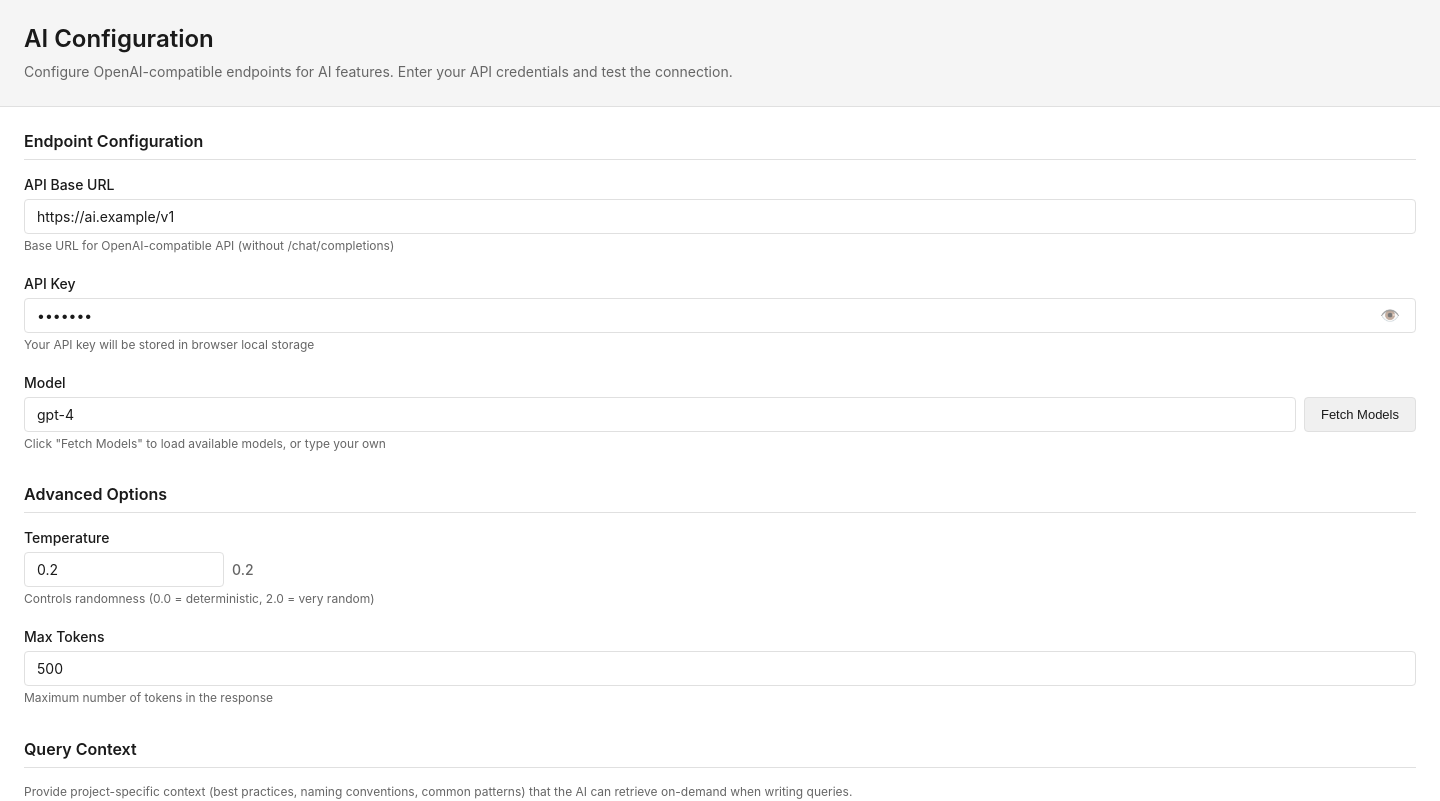
Scenario: AISettingsView › warns on empty model lists, fetch failures and thrown errors
Click the button with class "btn-fetch-models". click: (1360, 414)
box: [1304,397,1416,432]
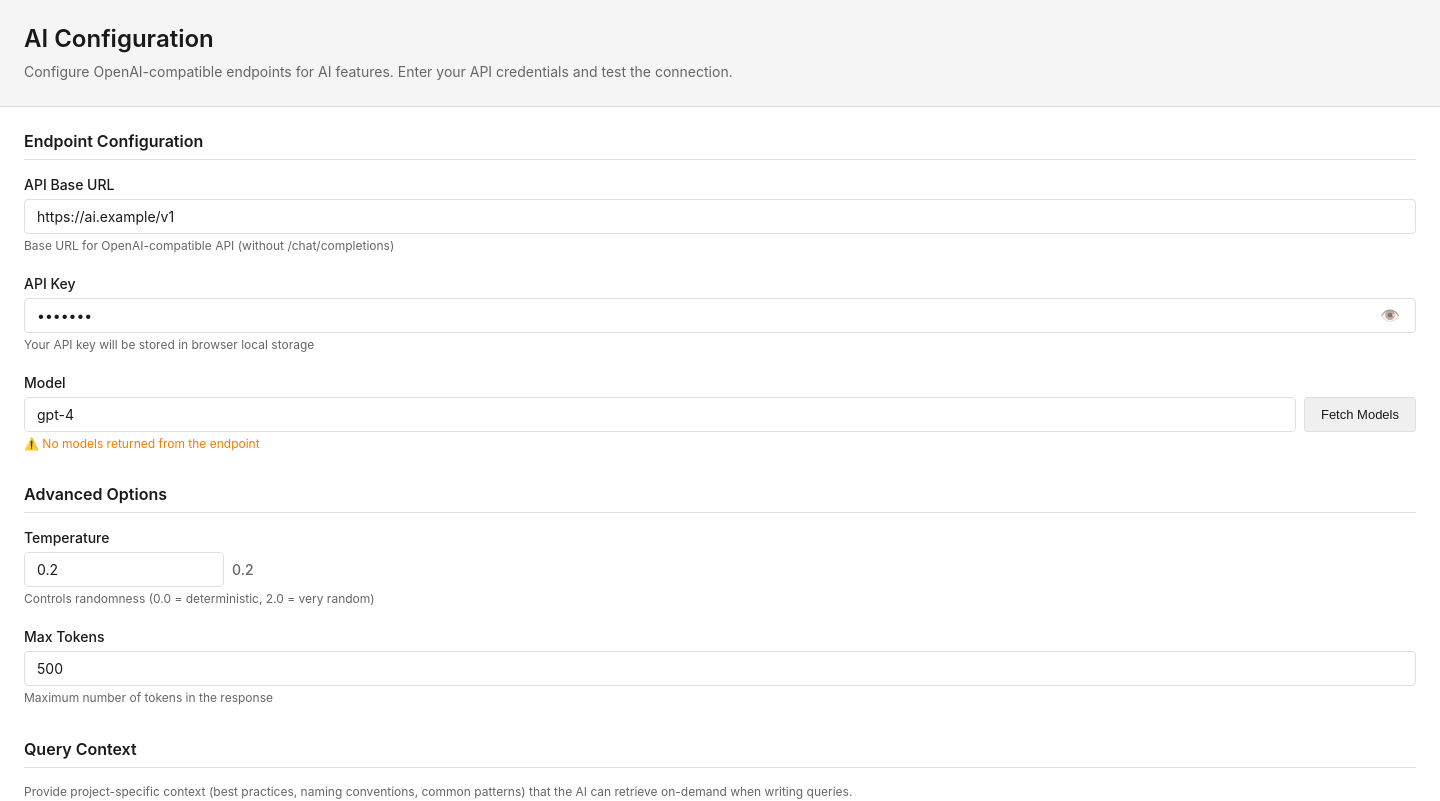
Result: the text with class "warning" shows "No models returned from the endpoint" at [24,436,260,451]
Click the button with class "btn-fetch-models". click: (1360, 414)
box: [1304,397,1416,432]
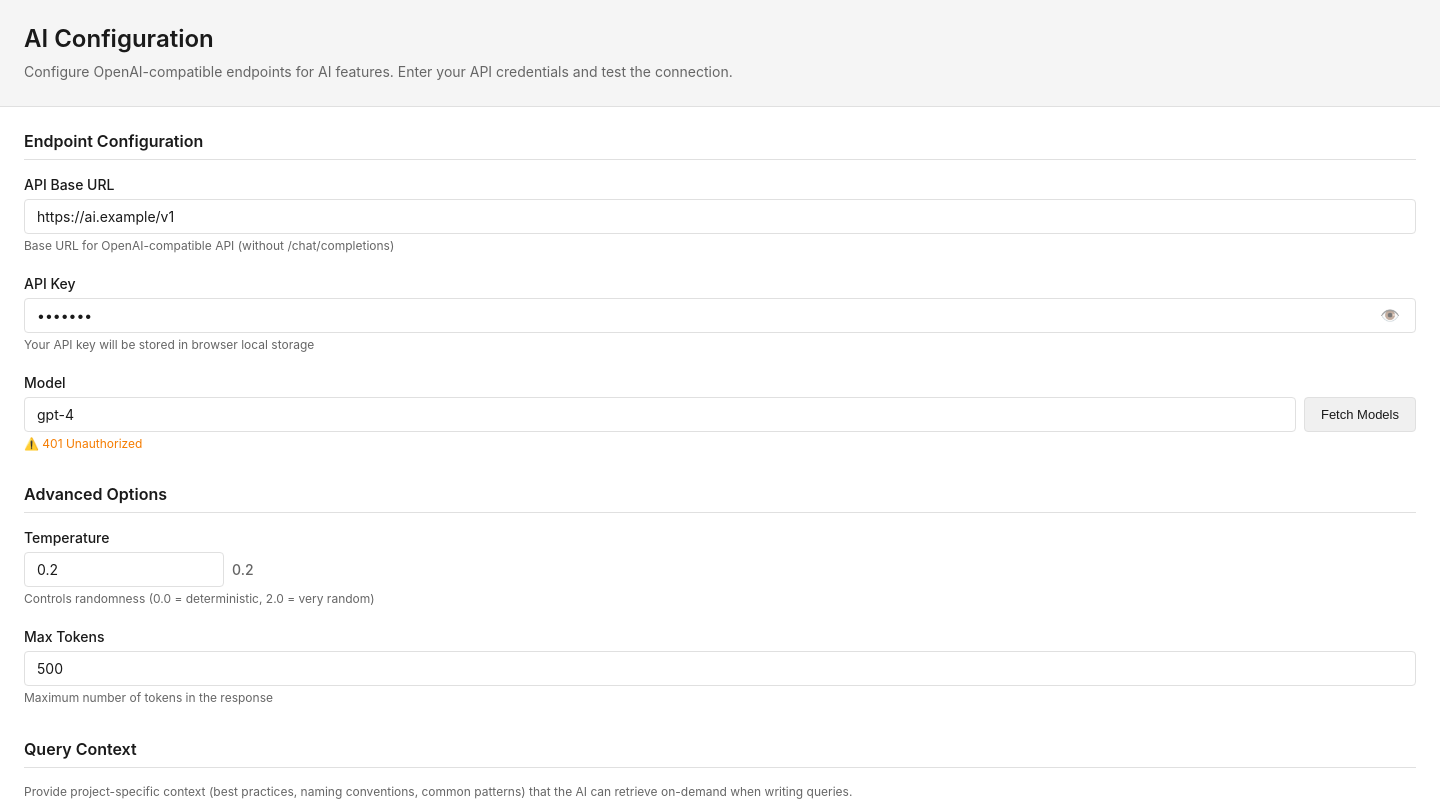
Result: the text with class "warning" shows "401 Unauthorized" at [24,436,142,451]
Click the button with class "btn-fetch-models". click: (1360, 414)
box: [1304,397,1416,432]
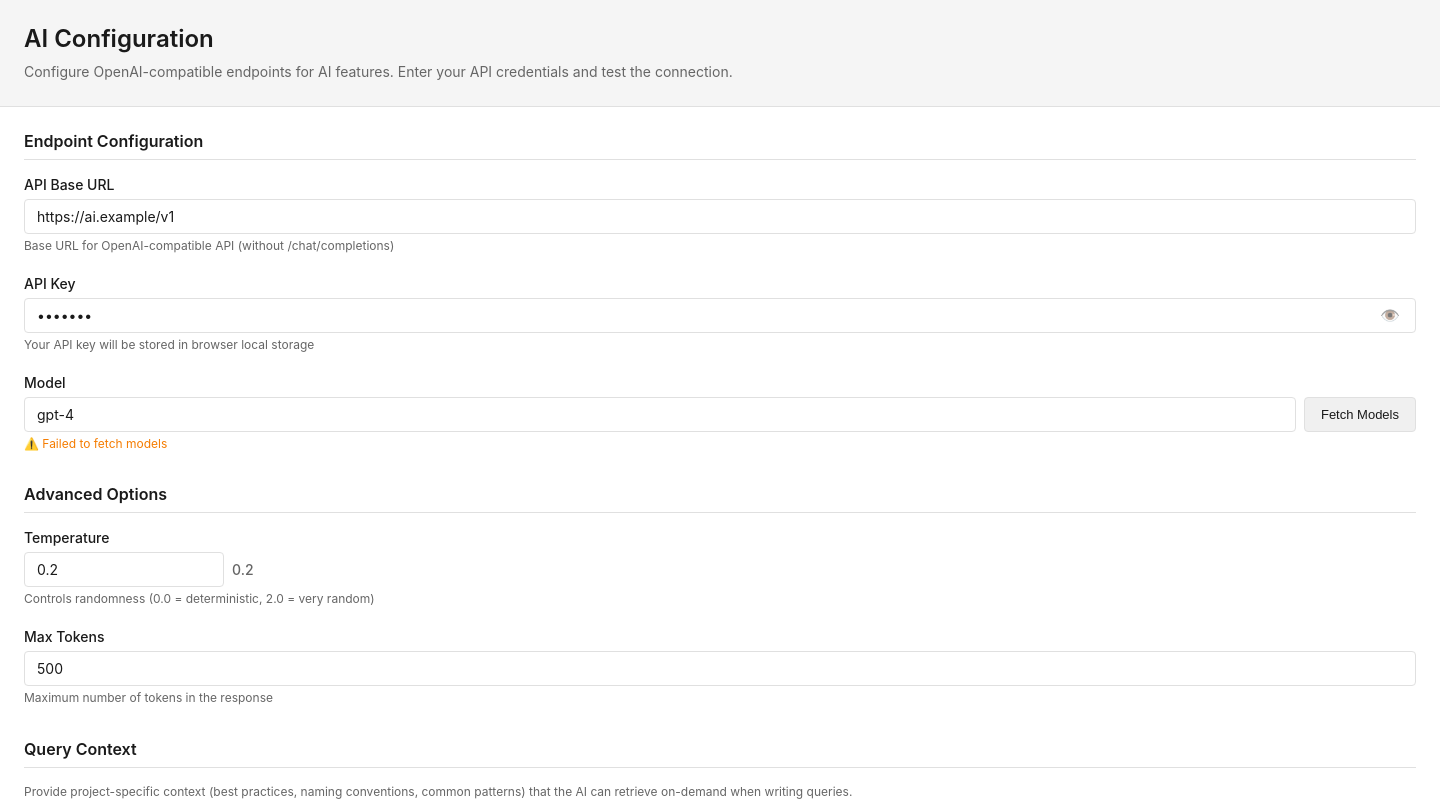
Result: the text with class "warning" shows "Failed to fetch models" at [24,436,167,451]
Click the button with class "btn-fetch-models". click: (1360, 414)
box: [1304,397,1416,432]
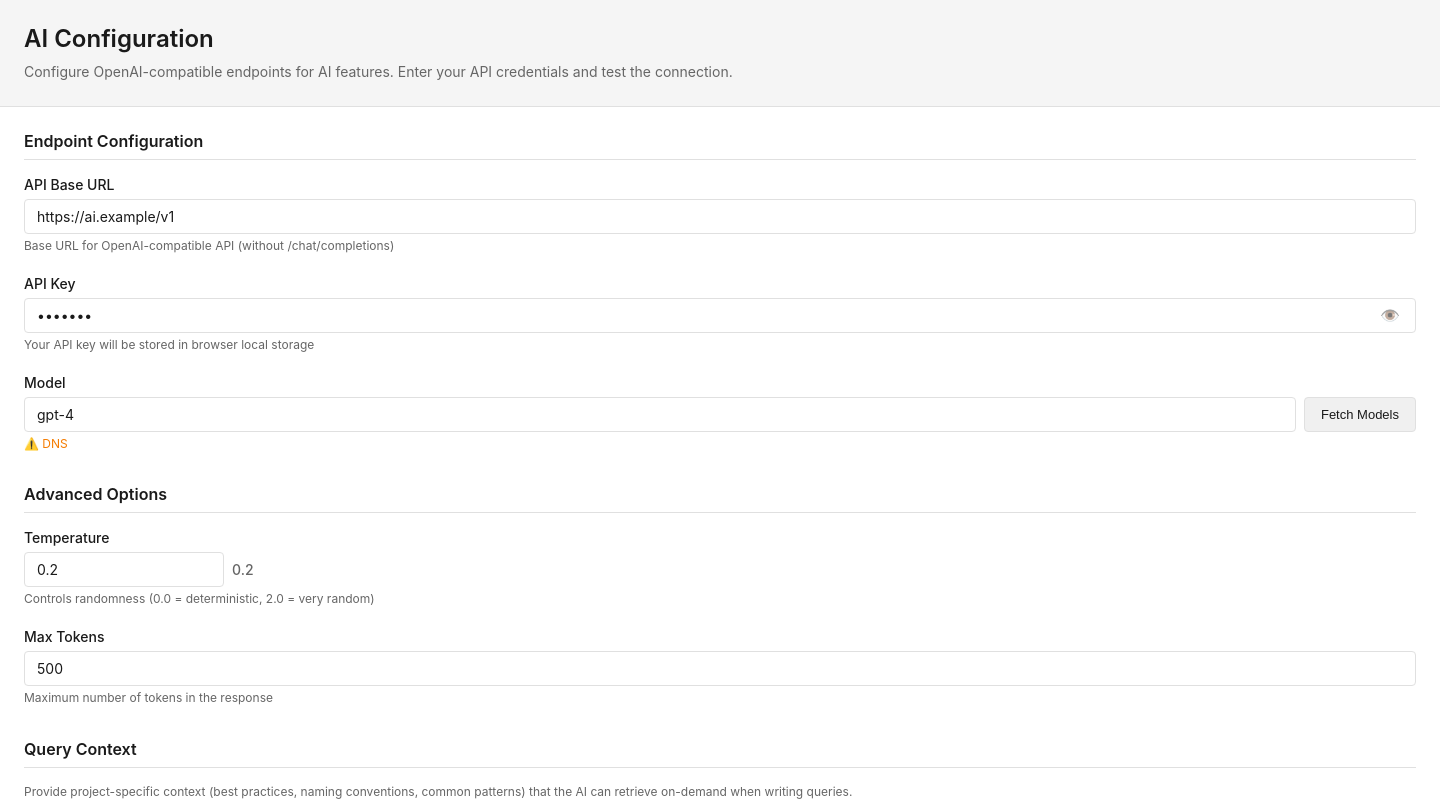
Result: the text with class "warning" shows "DNS" at [24,436,68,451]
